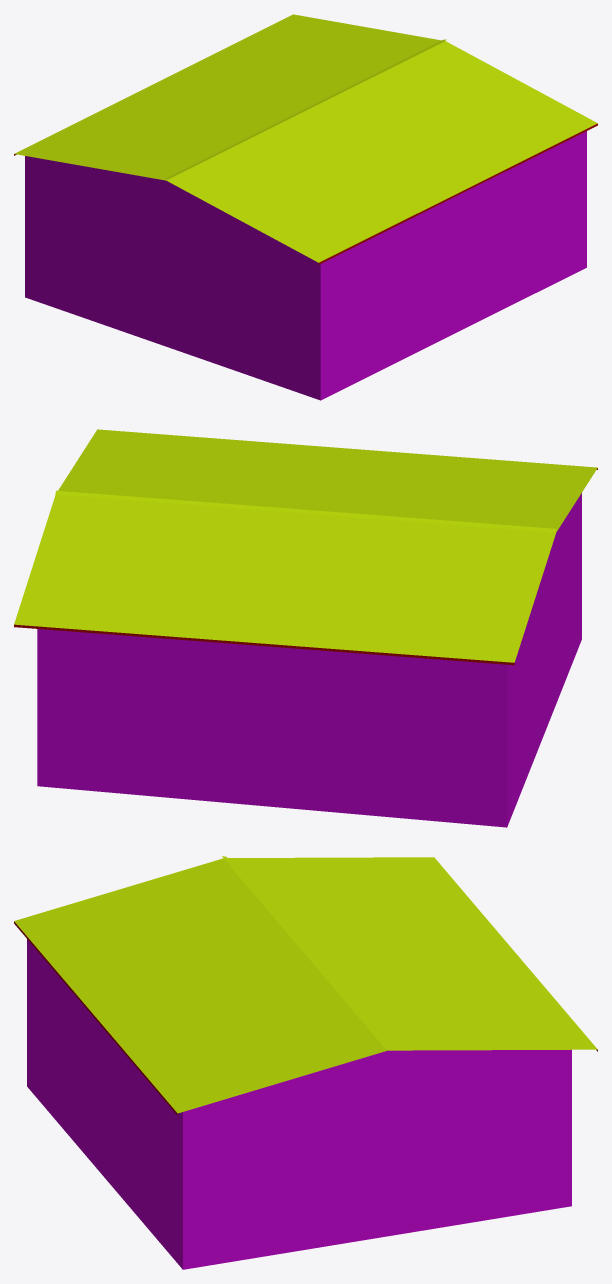
File: svc_18.glb
3 views of the same model, one above another, from view 1: azimuth 30°, elevation 25°; view 2: azimuth 150°, elevation 25°; view 3: azimuth 270°, elevation 25° (orthographic). The views are drawn at different scales.
Parts seen in each view (by area): view 1: svc_18; view 2: svc_18; view 3: svc_18.
Part boxes in pixels (box(x1,y1,x2,y2)): svc_18: box(14, 14, 597, 400); svc_18: box(14, 429, 597, 827); svc_18: box(14, 856, 597, 1269).
Bounding box in the file's own units: 27.65 × 9.78 × 26.62.
